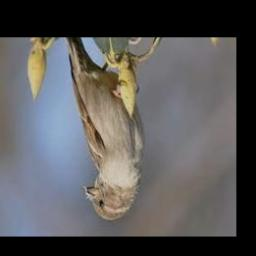Sparrow: (65, 38, 145, 221)
